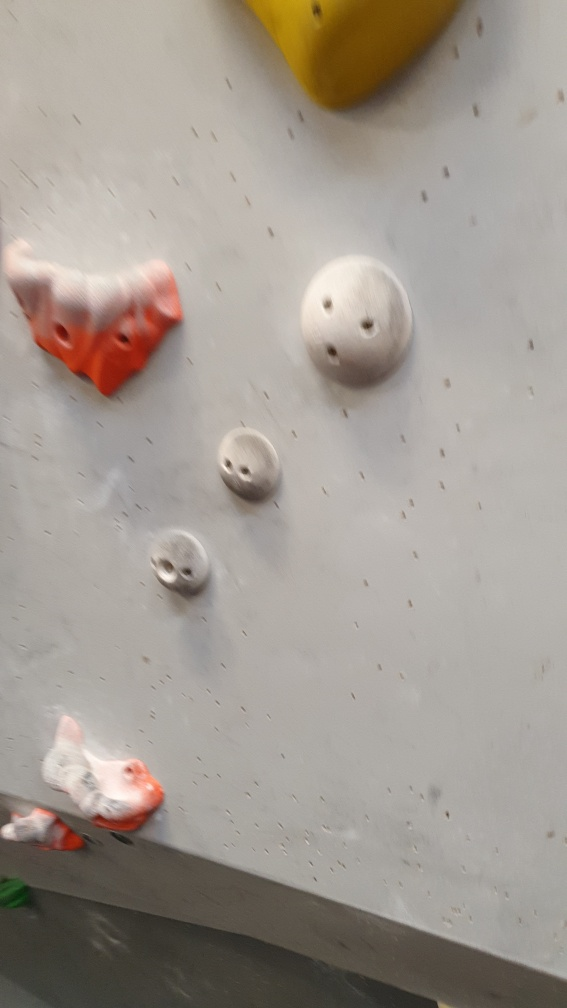Jug: (2, 227, 188, 401), (39, 712, 164, 837)
Sloper: (295, 251, 415, 389), (214, 424, 284, 506), (147, 524, 212, 597)
